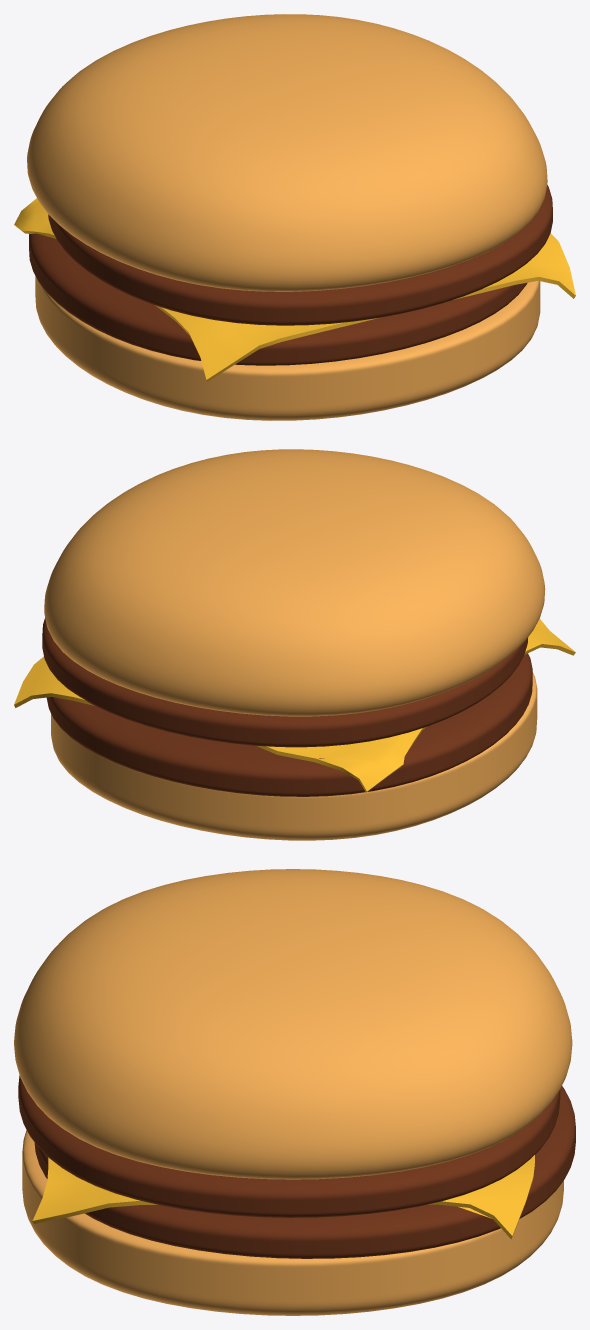
Rendered from hamburger.glb.
3 views of the same model, one above another, from view 1: azimuth 30°, elevation 25°; view 2: azimuth 150°, elevation 25°; view 3: azimuth 270°, elevation 25° (orthographic). The views are drawn at different scales.
Visible parts, largest first — view 1: Cube.007, Cube.002, Cube.001, Cube.005, Plane; view 2: Cube.007, Cube.002, Cube.005, Cube.001, Plane; view 3: Cube.007, Cube.002, Cube.001, Cube.005, Plane.
Part boxes in pixels (bbox=[...]): Cube.007: bbox=[27, 14, 547, 291]; Cube.002: bbox=[35, 276, 540, 420]; Cube.001: bbox=[48, 185, 552, 325]; Cube.005: bbox=[29, 233, 527, 365]; Plane: bbox=[14, 198, 575, 381]; Cube.007: bbox=[44, 449, 545, 716]; Cube.002: bbox=[51, 672, 537, 840]; Cube.005: bbox=[46, 653, 532, 796]; Cube.001: bbox=[42, 618, 528, 747]; Plane: bbox=[14, 619, 575, 792]; Cube.007: bbox=[14, 869, 572, 1179]; Cube.002: bbox=[22, 1130, 563, 1315]; Cube.001: bbox=[18, 1075, 560, 1217]; Cube.005: bbox=[34, 1086, 575, 1258]; Plane: bbox=[32, 1155, 534, 1239].
Bounding box in the file's own units: 9.36 × 5.36 × 9.32.
